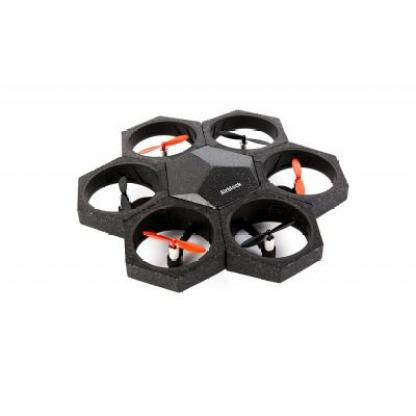drone: (72, 115, 364, 284)
